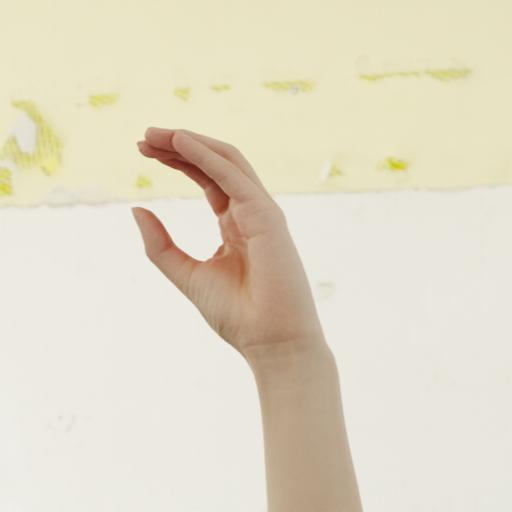C: (120, 122, 330, 363)
